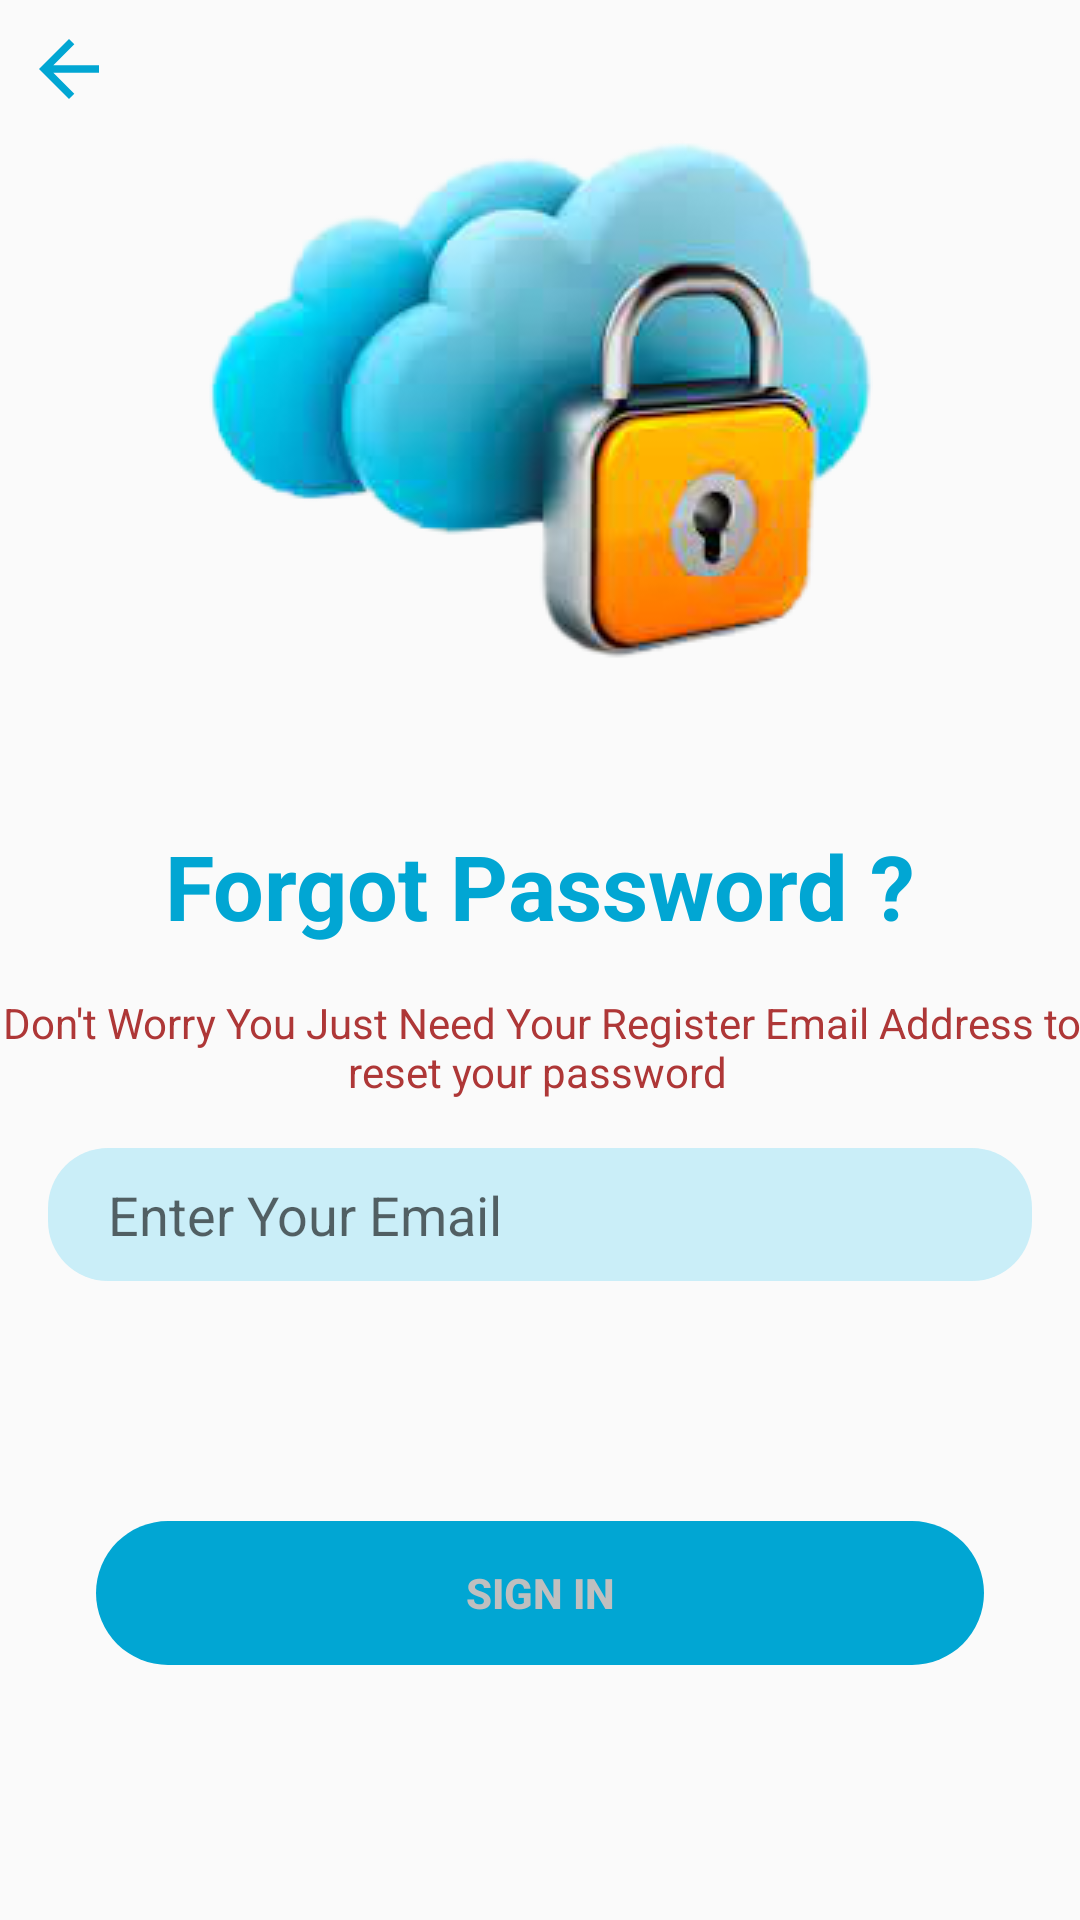

Screen size 1080w x 1920h. Icon name, then its box in pixels as (x1, y1, x2, y2):
arrow back: (39, 39, 99, 99)
